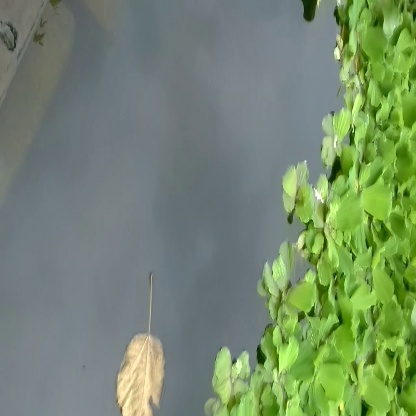leaf: (110, 270, 179, 416)
